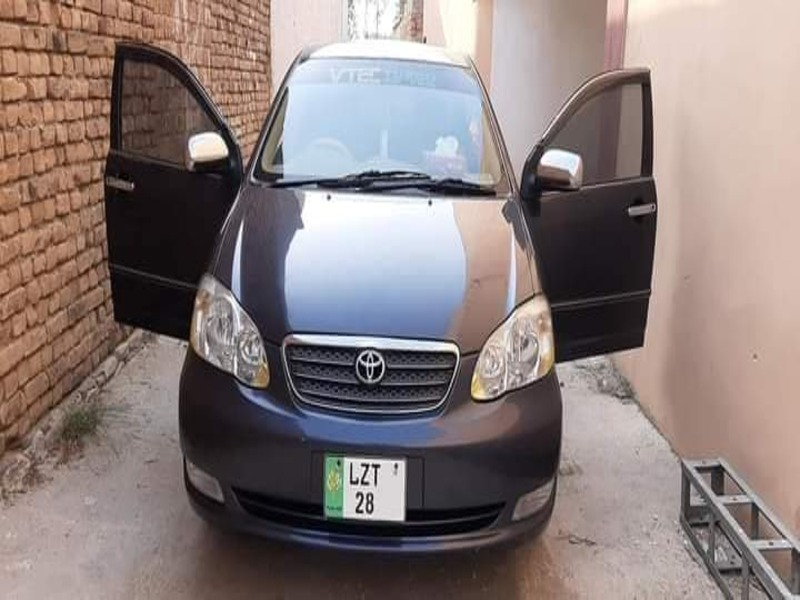License Plate: (319, 453, 414, 527)
